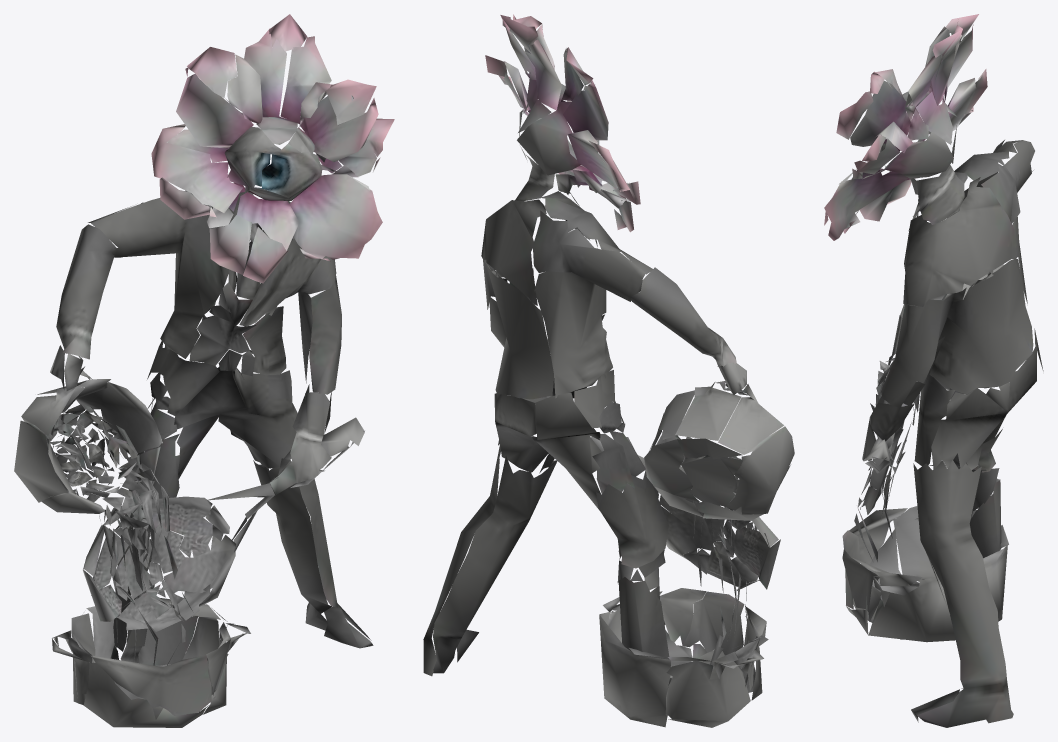
The model's file is cast_clerk.glb.
The picture shows the model from 3 angles, left to right: view 1: azimuth 30°, elevation 25°; view 2: azimuth 150°, elevation 25°; view 3: azimuth 270°, elevation 25°; orthographic projection. The views are drawn at different scales.
Visible parts, largest first — view 1: tripo_node_693e19a1-a717-4693-80da-2d3c8cc25a0a; view 2: tripo_node_693e19a1-a717-4693-80da-2d3c8cc25a0a; view 3: tripo_node_693e19a1-a717-4693-80da-2d3c8cc25a0a.
Boxes of the visible parts, x1=… form: tripo_node_693e19a1-a717-4693-80da-2d3c8cc25a0a: x1=14, y1=14, x2=394, y2=727; tripo_node_693e19a1-a717-4693-80da-2d3c8cc25a0a: x1=423, y1=14, x2=794, y2=727; tripo_node_693e19a1-a717-4693-80da-2d3c8cc25a0a: x1=824, y1=14, x2=1043, y2=727.
Bounding box in the file's own units: 0.5587 × 1 × 0.2977.
Materials: 1 (1 with a texture image).
